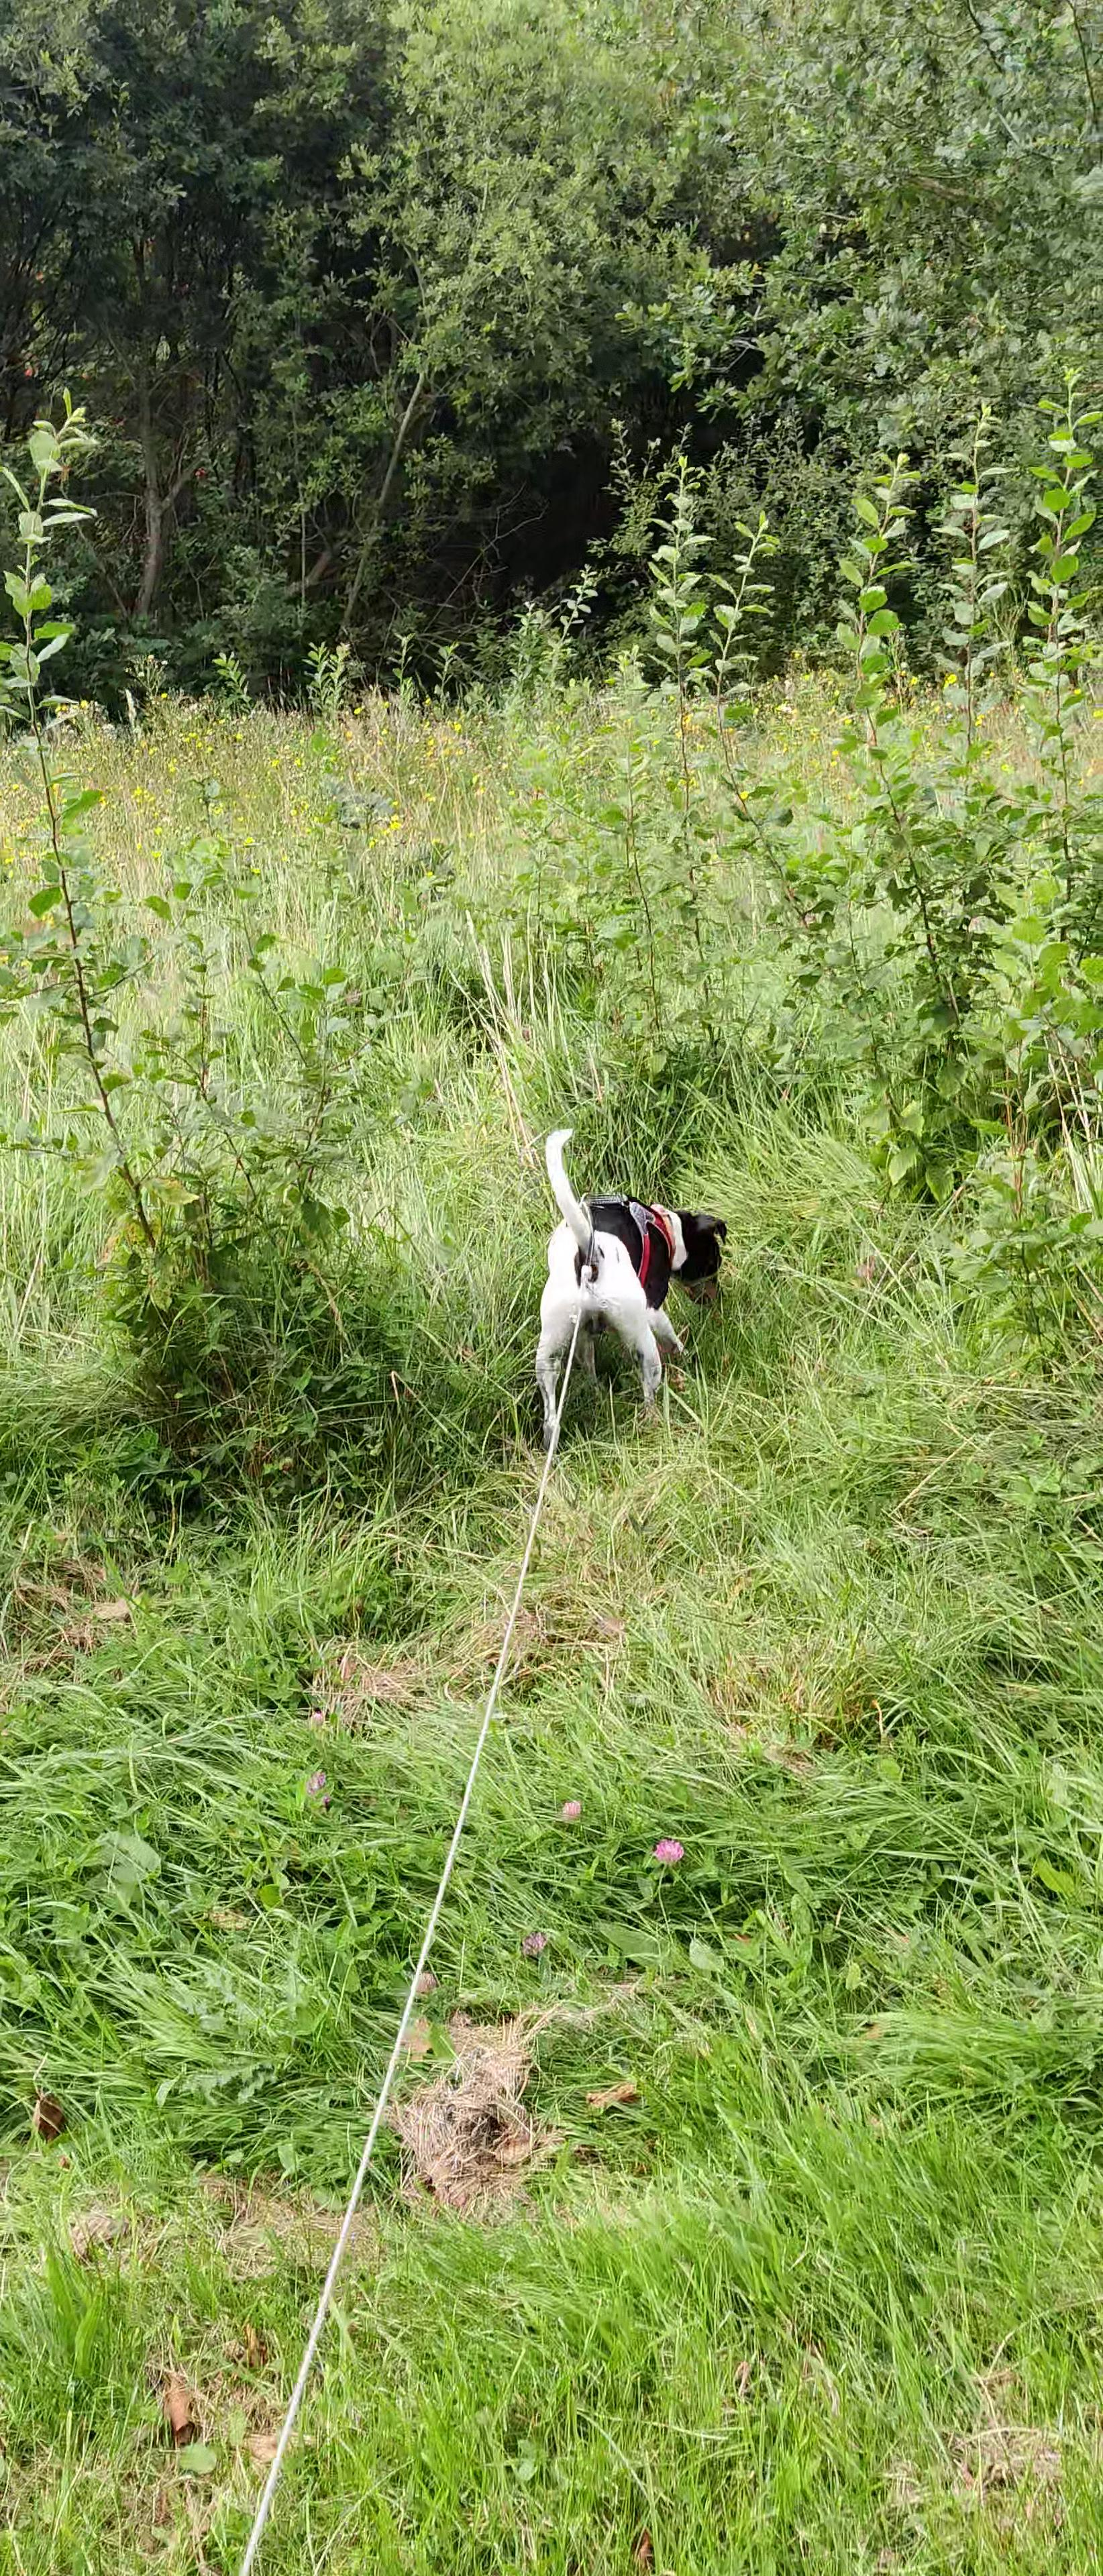Dog: (523, 1124, 735, 1462)
